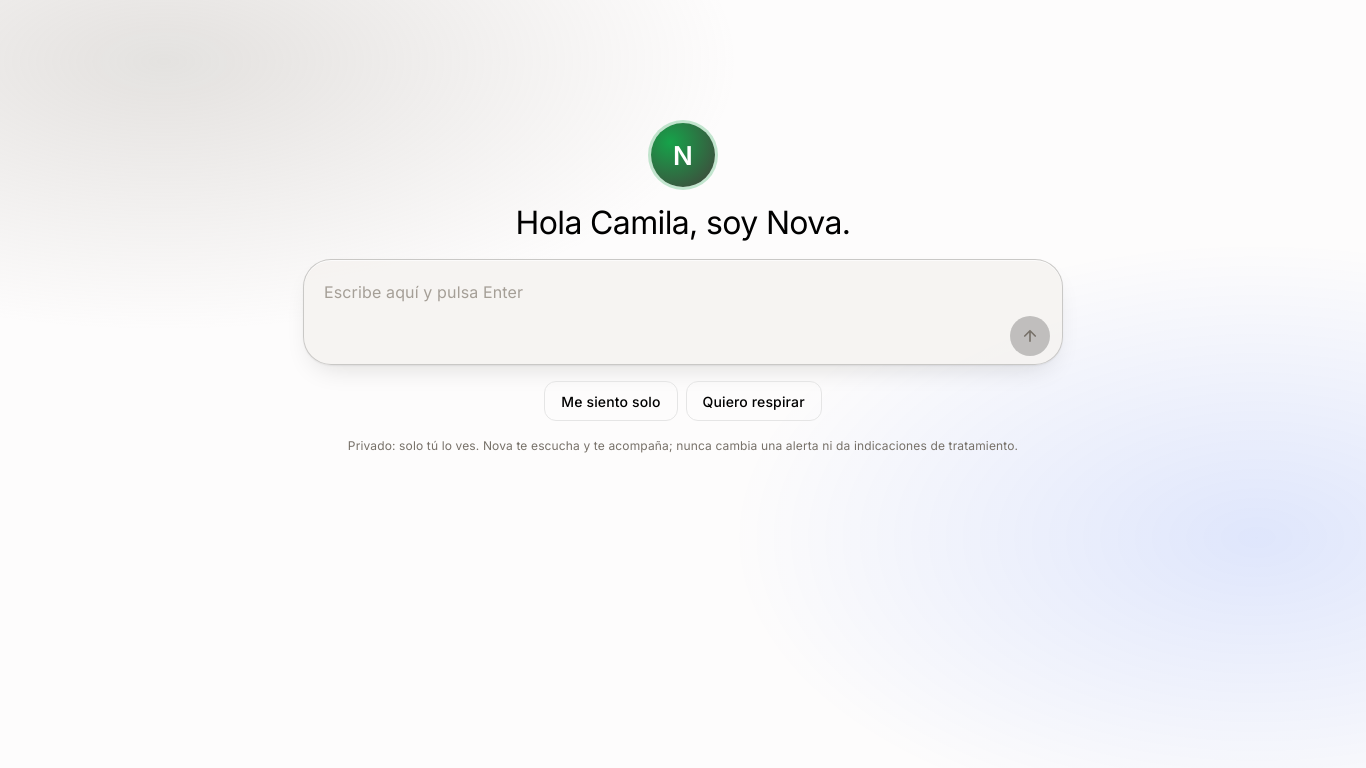
Test case: Nova, la compañía de apoyo › un atajo envía el mensaje, muestra la respuesta con su aviso de IA y manda el historial reciente
Click the button "Me siento solo": (611, 401) [544,381,678,421]
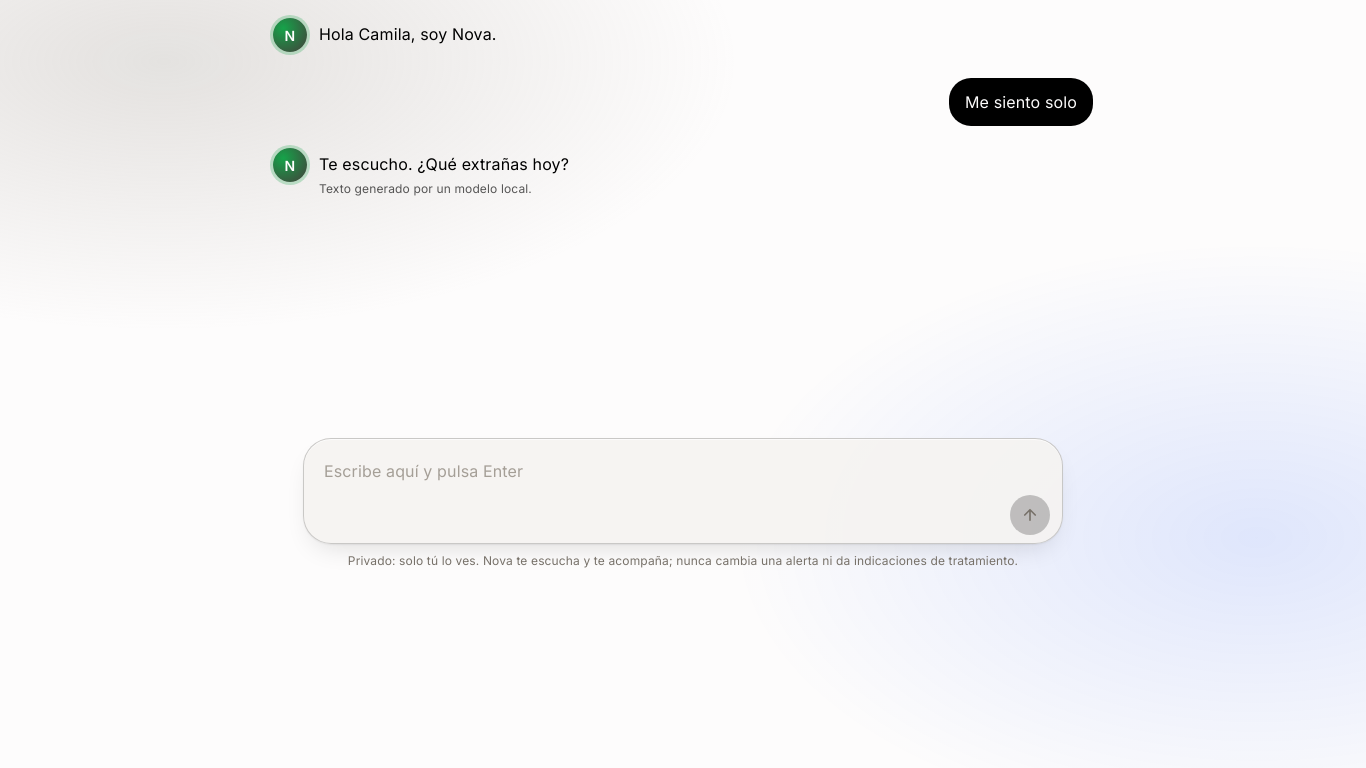
Expected: the text "Me siento solo" is shown, [949,78,1093,126]
Result: the text "Te escucho. ¿Qué extrañas hoy?" is shown at [319,154,569,174]
Result: the text "Texto generado por un modelo local." is shown at [319,180,569,198]
